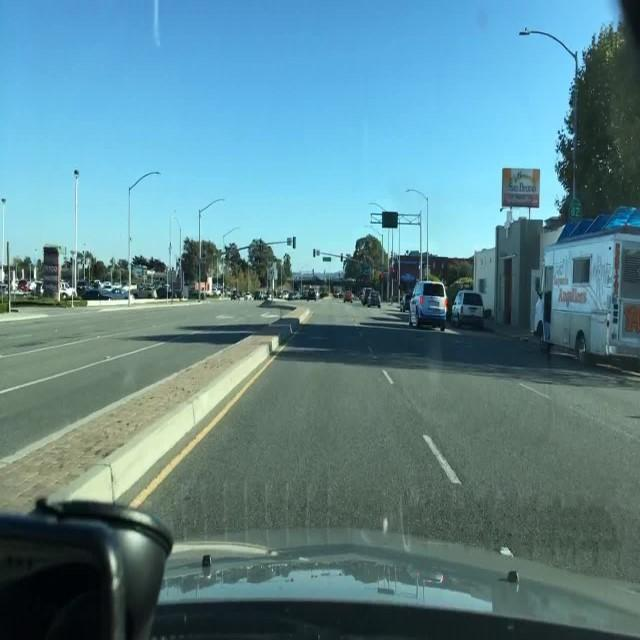normal: (376, 229, 640, 382)
